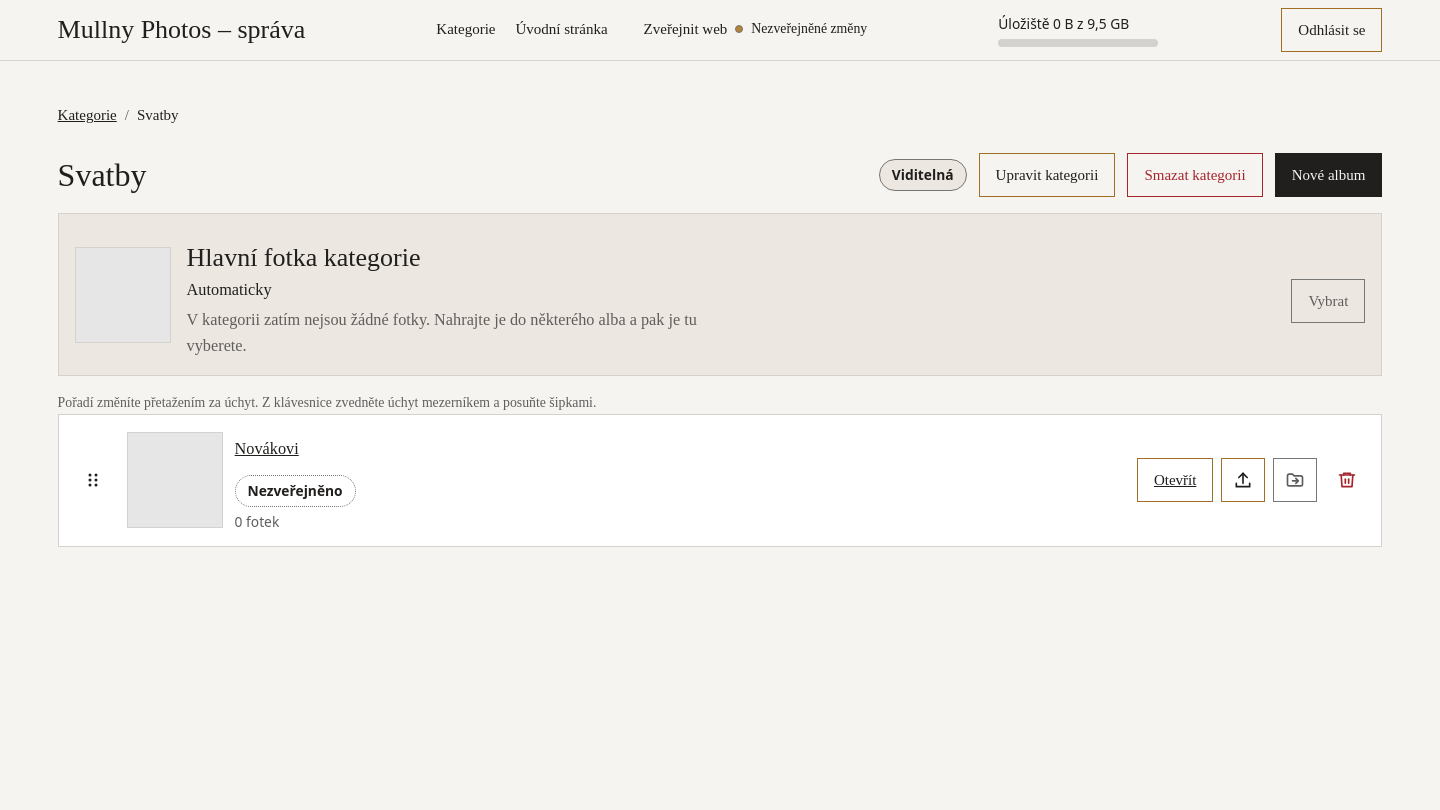
publish and hide › an album without photos cannot be published and nothing is written
Expected: the heading "Svatby" is shown, [58,156,146,194]
Expected: the link "Novákovi" is shown, [235,439,299,458]
Click the button named "Zveřejnit album: Novákovi": [1243, 480] box [1221,458,1265,502]
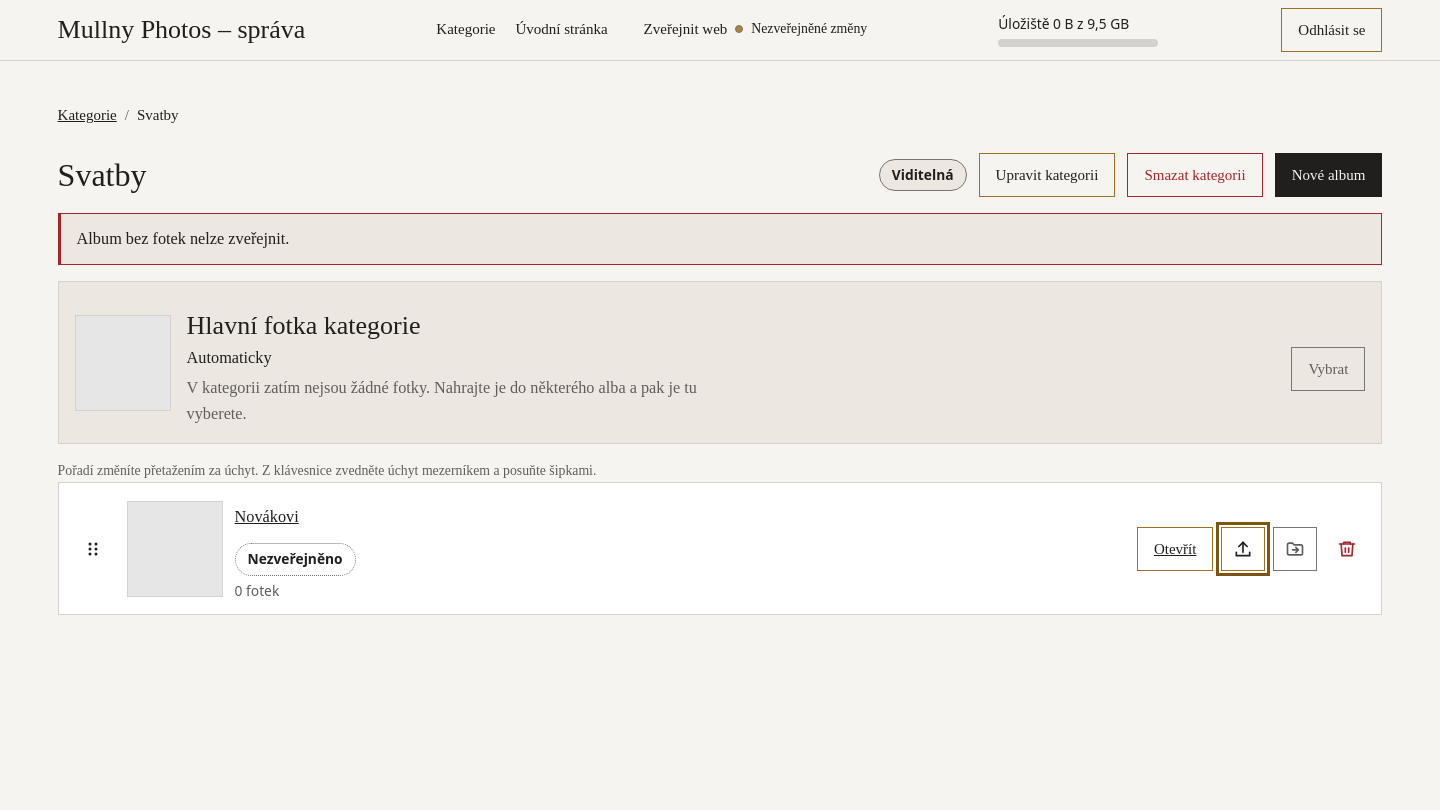
Expected: the text "Nezveřejněno" is shown, [235,543,356,576]
Expected: the message reads "Album bez fotek nelze zveřejnit.", [77,229,289,248]
